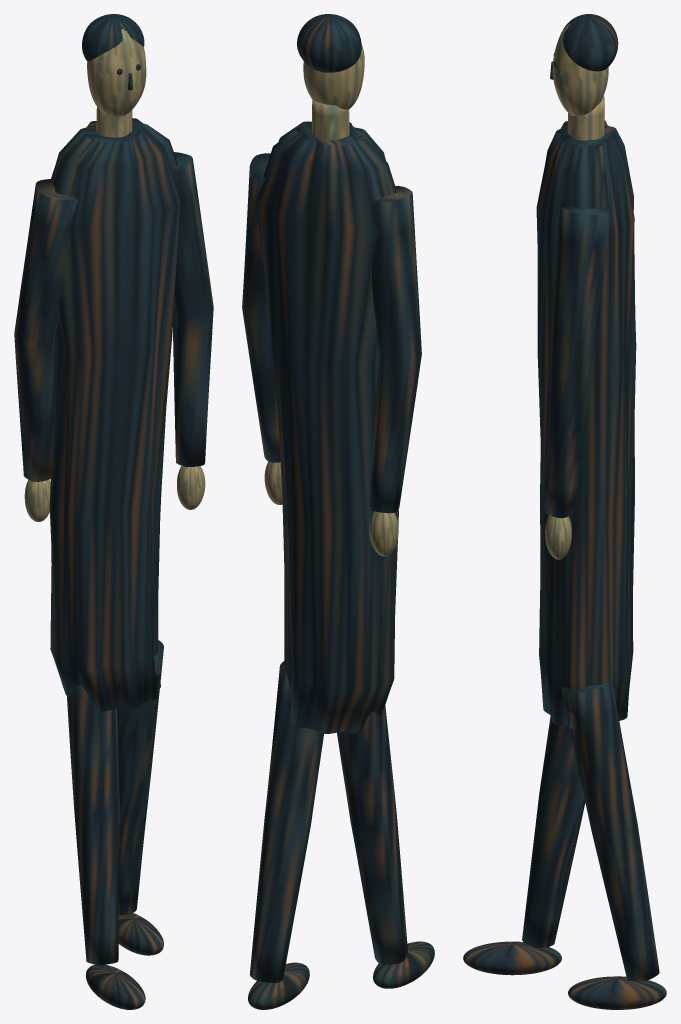
Rendered from distant-walker-1.glb.
3 renders of one model, left to right at view 1: azimuth 30°, elevation 25°; view 2: azimuth 150°, elevation 25°; view 3: azimuth 270°, elevation 25°, orthographic. The views are drawn at different scales.
Parts seen in each view (by area): view 1: Distant walker 1 painted mesh; view 2: Distant walker 1 painted mesh; view 3: Distant walker 1 painted mesh.
Part boxes in pixels (x1,y1,x2,y2): Distant walker 1 painted mesh: [14, 14, 213, 1009]; Distant walker 1 painted mesh: [242, 14, 434, 1009]; Distant walker 1 painted mesh: [463, 14, 666, 1009].
Size of the model in its own units: 0.2861 by 1.43 by 0.272.
